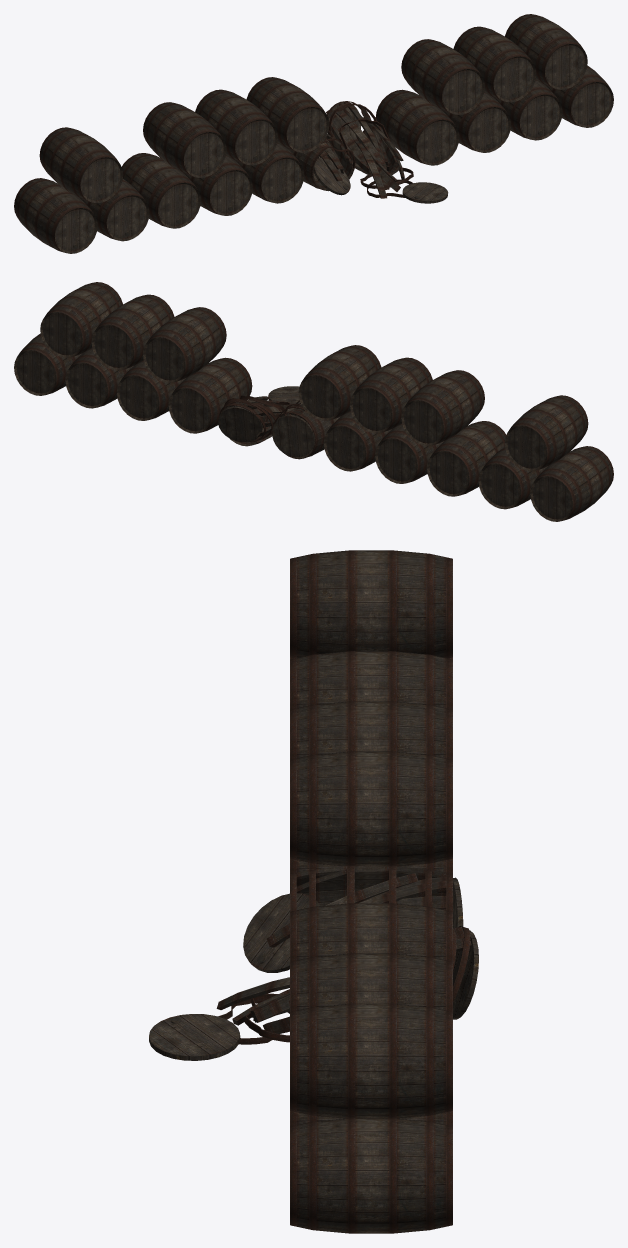
File: collapse_barrels_01.DAE
3 views of the same model, one above another, from view 1: azimuth 30°, elevation 25°; view 2: azimuth 150°, elevation 25°; view 3: azimuth 270°, elevation 25° (orthographic). The views are drawn at different scales.
Parts seen in each view (by area): view 1: Box003; view 2: Box003; view 3: Box003.
Part boxes in pixels (left/top/right/bottom): Box003: left=14, top=14, right=613, bottom=253; Box003: left=14, top=282, right=613, bottom=521; Box003: left=149, top=550, right=478, bottom=1233.
Bounding box in the file's own units: 18.53 × 3.06 × 4.68.
